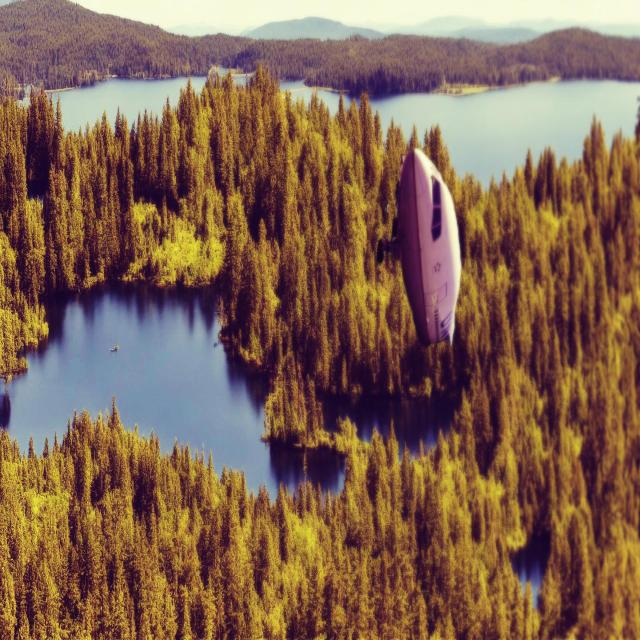airplane: (376, 146, 462, 348)
